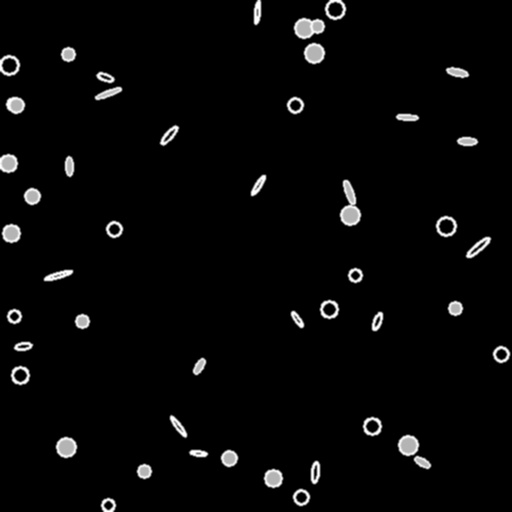pseudomonas: (465, 235, 491, 259), (159, 124, 179, 146), (169, 415, 187, 437), (342, 179, 356, 205), (95, 86, 121, 100), (250, 174, 266, 196), (44, 269, 72, 281), (370, 311, 384, 331), (413, 455, 431, 469), (290, 310, 304, 328), (192, 357, 206, 375), (310, 461, 320, 483), (447, 67, 467, 77), (253, 0, 261, 24), (96, 72, 114, 82), (190, 449, 206, 457), (15, 342, 31, 350), (457, 138, 477, 144), (66, 156, 72, 176), (397, 114, 417, 120)
synechocystis: (295, 19, 313, 37), (57, 438, 75, 456), (399, 436, 417, 454), (437, 217, 455, 235), (0, 56, 18, 74), (326, 0, 344, 18), (305, 44, 323, 62), (341, 206, 359, 224), (12, 367, 28, 383), (3, 225, 19, 241), (0, 155, 16, 171), (364, 418, 380, 434), (321, 301, 337, 317), (265, 470, 281, 486), (288, 98, 302, 112), (494, 347, 508, 361), (294, 490, 308, 504), (9, 98, 23, 112), (107, 222, 121, 236), (25, 189, 39, 203), (222, 451, 236, 465), (8, 310, 20, 322), (7, 98, 19, 110), (76, 315, 88, 327), (311, 20, 323, 32), (449, 302, 461, 314), (138, 465, 150, 477), (349, 269, 361, 281), (102, 499, 114, 511), (62, 48, 74, 60)
